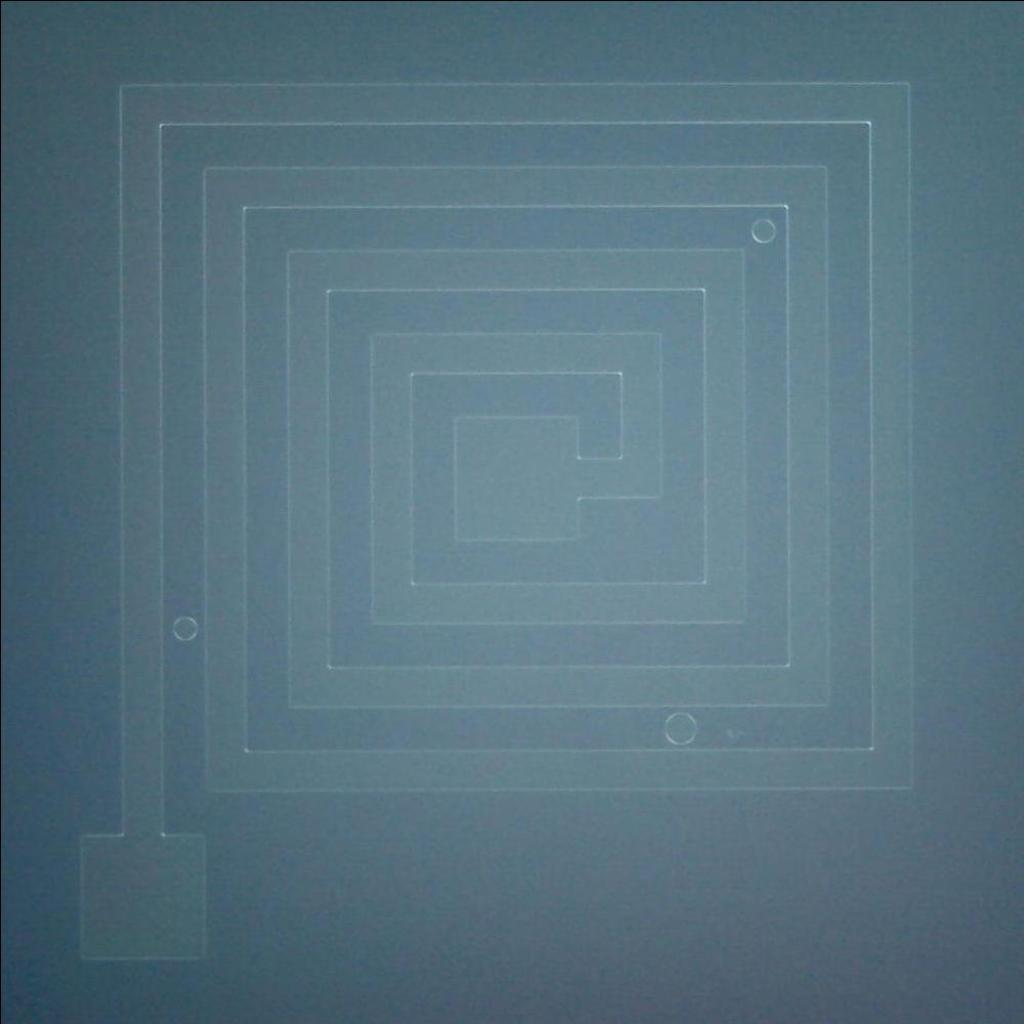circle: (660, 705, 698, 747), (746, 212, 779, 250), (169, 604, 200, 644)
